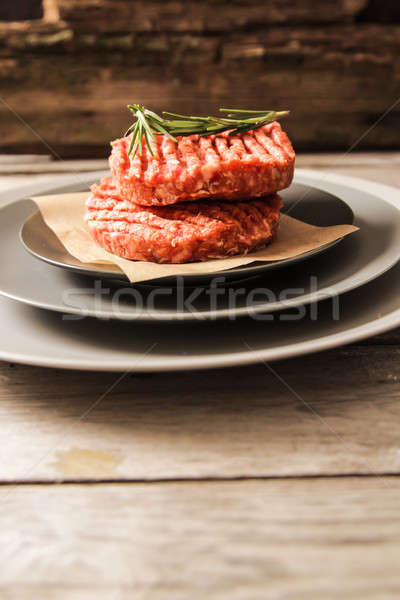ground_beef: (94, 84, 296, 195), (63, 173, 300, 249)
